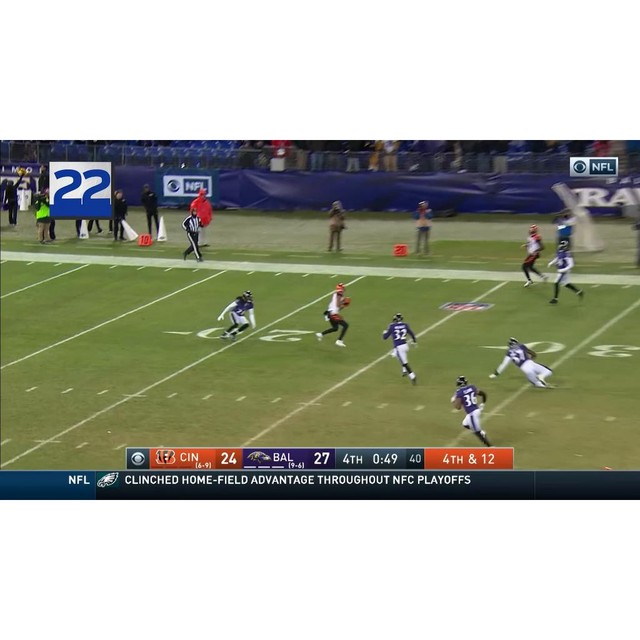american-football-player: (489, 336, 554, 389), (451, 375, 492, 446), (382, 313, 419, 385), (546, 240, 583, 303), (316, 283, 350, 347), (217, 289, 256, 339), (519, 224, 546, 287)
referee: (182, 206, 205, 264)
